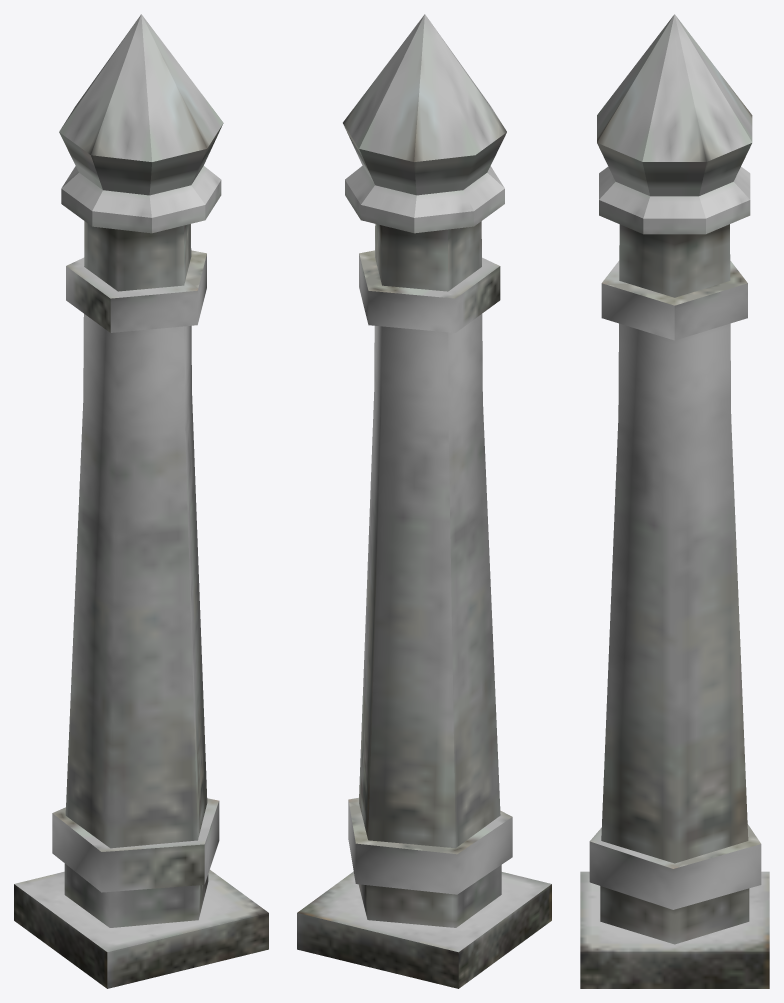
Rendered from general_obj_stonepillar_01.fbx.
3 renders of one model, left to right at view 1: azimuth 30°, elevation 25°; view 2: azimuth 150°, elevation 25°; view 3: azimuth 270°, elevation 25°, orthographic.
Parts seen in each view (by area): view 1: Object12; view 2: Object12; view 3: Object12.
Boxes of the visible parts, x1,y1,x2,y2 form: Object12: [14, 14, 268, 988]; Object12: [297, 14, 551, 988]; Object12: [580, 14, 769, 988].
Bounding box in the file's own units: 0.9043 × 4.93 × 0.9043.
